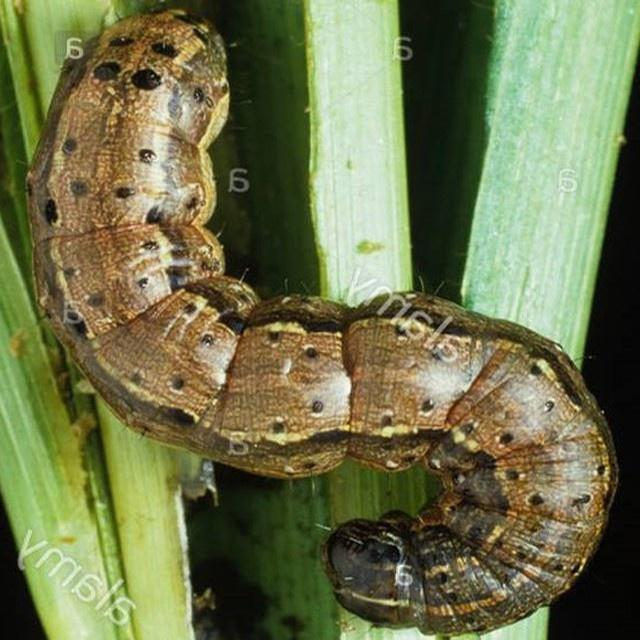gusano_cogollero: (15, 0, 618, 640)
